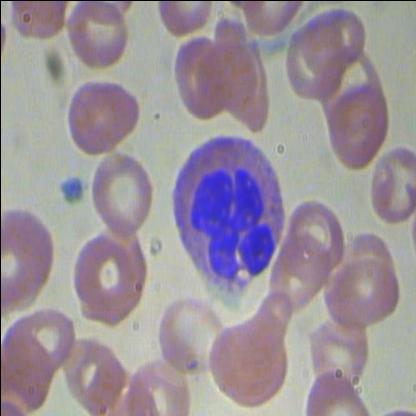Platelets: (52, 165, 89, 205)
RBC: (154, 286, 231, 380), (66, 227, 142, 321), (320, 248, 402, 330), (322, 83, 390, 176), (85, 148, 155, 236), (67, 76, 137, 158), (64, 0, 136, 68), (369, 147, 415, 222)
WBC: (164, 131, 289, 305)
